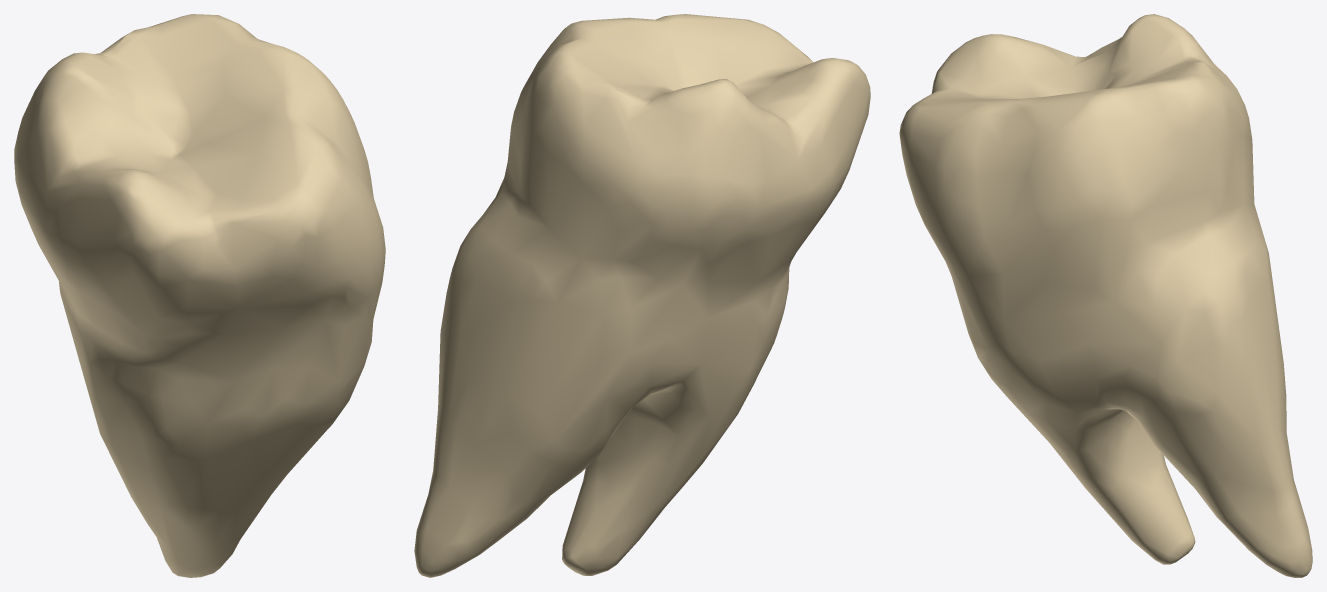
File: tooth-36.glb
3 views of the same model, side by side, from view 1: azimuth 30°, elevation 25°; view 2: azimuth 150°, elevation 25°; view 3: azimuth 270°, elevation 25° (orthographic). The views are drawn at different scales.
Parts seen in each view (by area): view 1: tooth-36; view 2: tooth-36; view 3: tooth-36.
Boxes of the visible parts, x1,y1,x2,y2 form: tooth-36: (14, 14, 385, 577); tooth-36: (414, 14, 870, 577); tooth-36: (899, 14, 1312, 577).
Size of the model in its own units: 0.3084 by 0.4925 by 0.3777.
